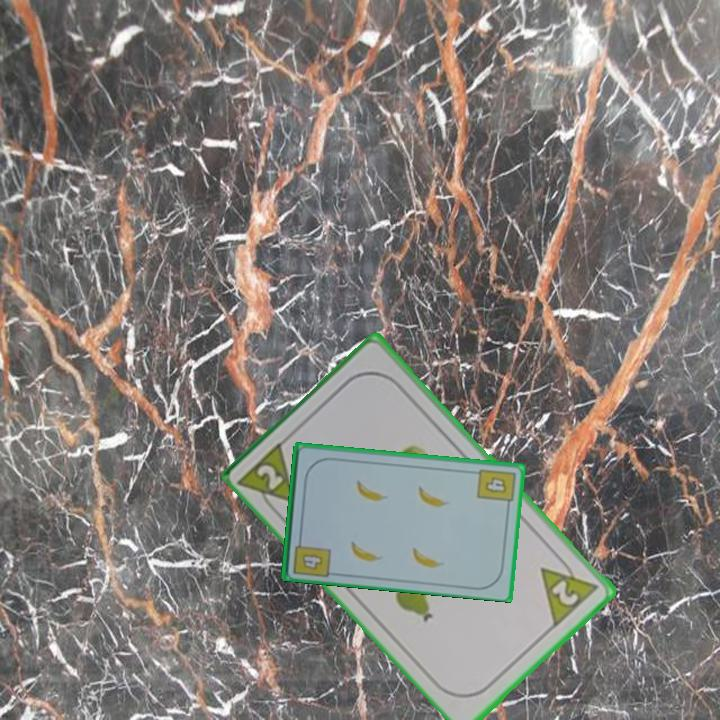2p: (537, 550, 602, 630), (237, 436, 299, 519)
4b: (290, 532, 333, 580), (474, 465, 518, 511)
